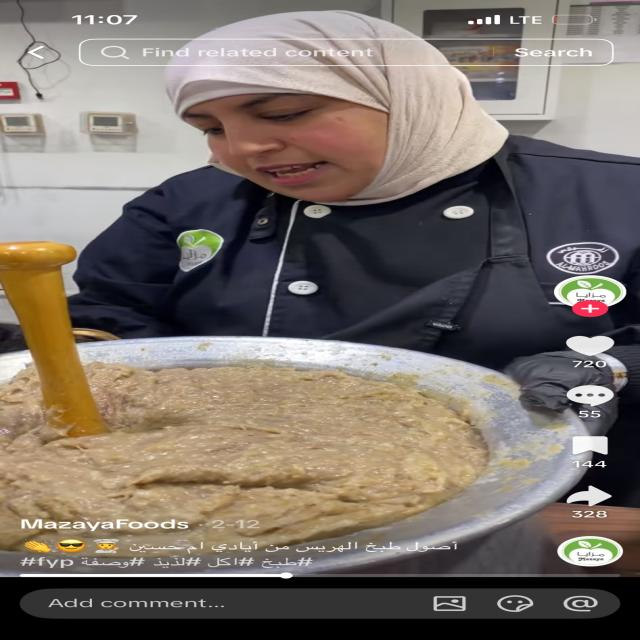Harees: (0, 346, 500, 552)
